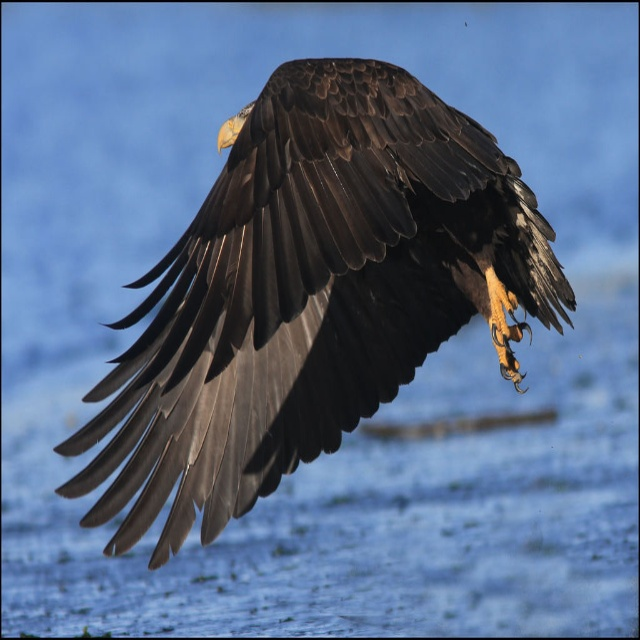Eagle: (56, 56, 581, 570)
